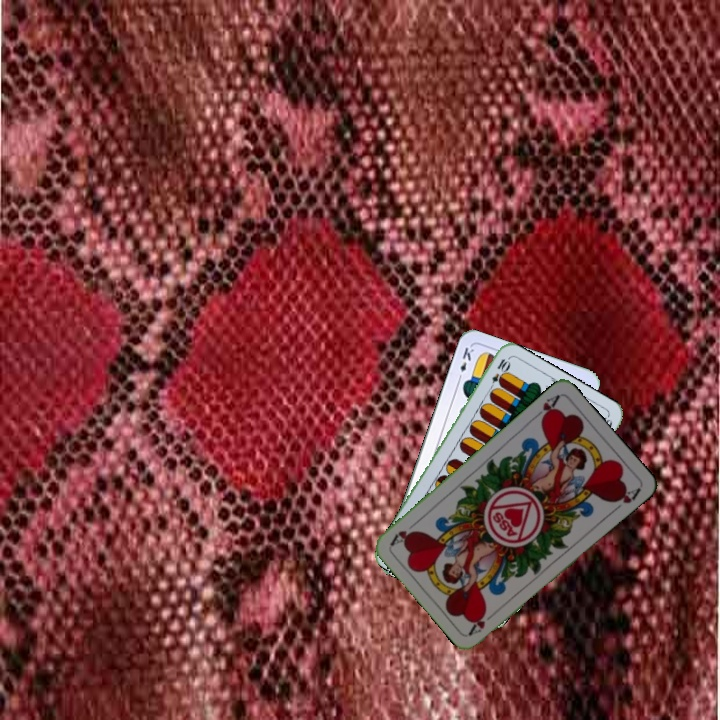E10: (485, 355, 512, 393)
EK: (454, 343, 477, 383)
HA: (528, 391, 562, 424), (465, 606, 500, 637)
